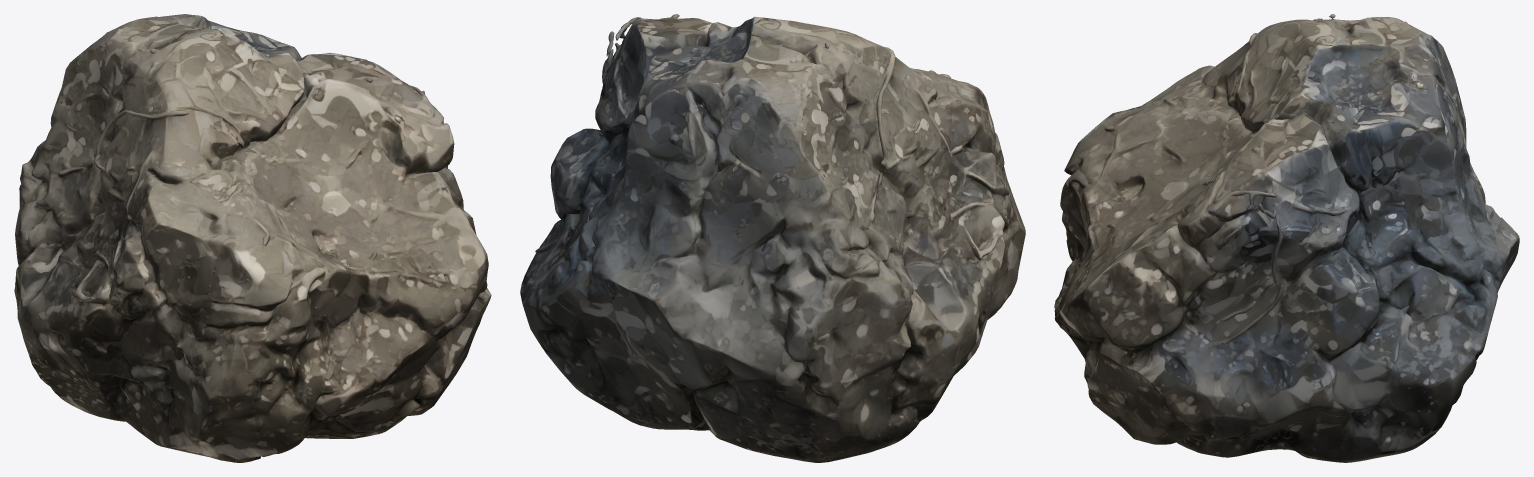
Rendered from nature-rock-medium.glb.
3 renders of one model, left to right at view 1: azimuth 30°, elevation 25°; view 2: azimuth 150°, elevation 25°; view 3: azimuth 270°, elevation 25°, orthographic. The views are drawn at different scales.
Visible parts, largest first — view 1: tripo_node_6fe49e97-9678-4b81-aadb-23dcf3c0d424; view 2: tripo_node_6fe49e97-9678-4b81-aadb-23dcf3c0d424; view 3: tripo_node_6fe49e97-9678-4b81-aadb-23dcf3c0d424.
Boxes of the visible parts, x1,y1,x2,y2 form: tripo_node_6fe49e97-9678-4b81-aadb-23dcf3c0d424: (14,14,491,462); tripo_node_6fe49e97-9678-4b81-aadb-23dcf3c0d424: (520,14,1025,462); tripo_node_6fe49e97-9678-4b81-aadb-23dcf3c0d424: (1054,14,1519,462).
Size of the model in its own units: 1.64 by 1.5 by 1.7.
Materials: 1 (1 with a texture image).
